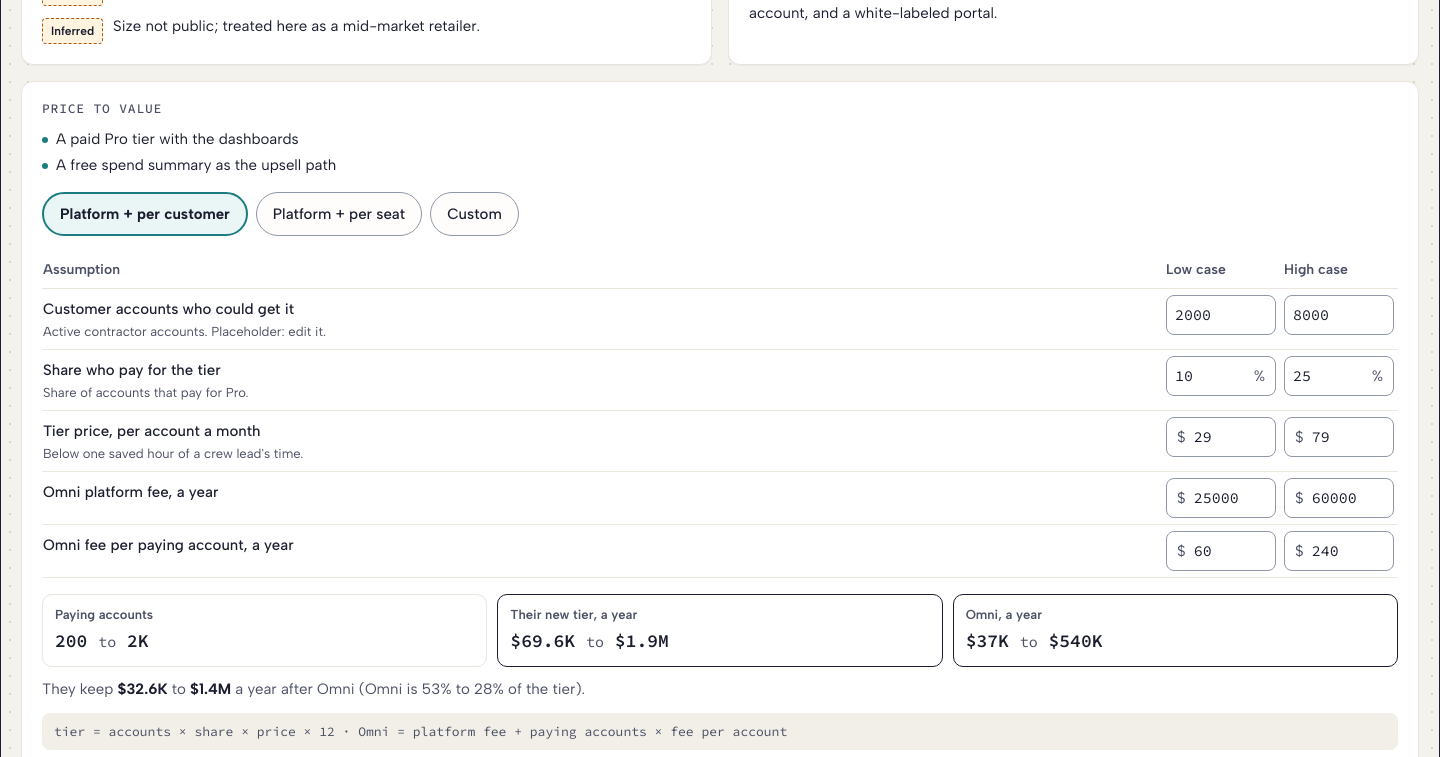
Scenario: the whiteboard › recalculates the price model as you type
This screenshot has width=1440, height=757.
(page scrolled)
Check: the element showing "Their new tier, a year $69.6K to $1.9M" is shown, box [497, 594, 943, 667]
Replace the text in the field named "Share who pay for the tier, low case" with "20" at x=1210, y=376, box [1167, 357, 1254, 395]
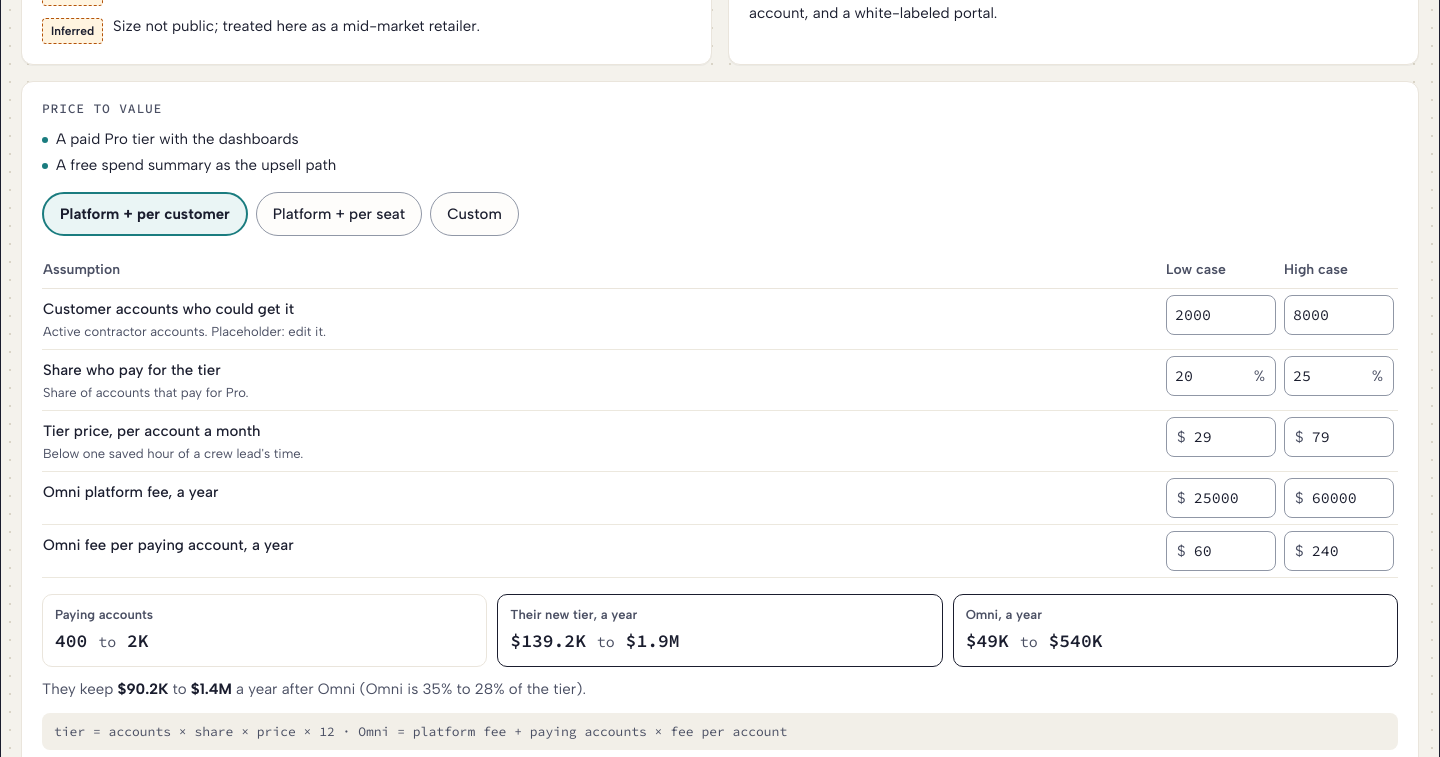
Check: the element showing "Their new tier, a year $139.2K to $1.9M" is shown, box [497, 594, 943, 667]
# Per seat: the seat rows appear and the seller's fee follows them.
Click the radio button labelled "Platform + per seat".
click(339, 214)  # box [256, 192, 422, 236]
(page scrolled)
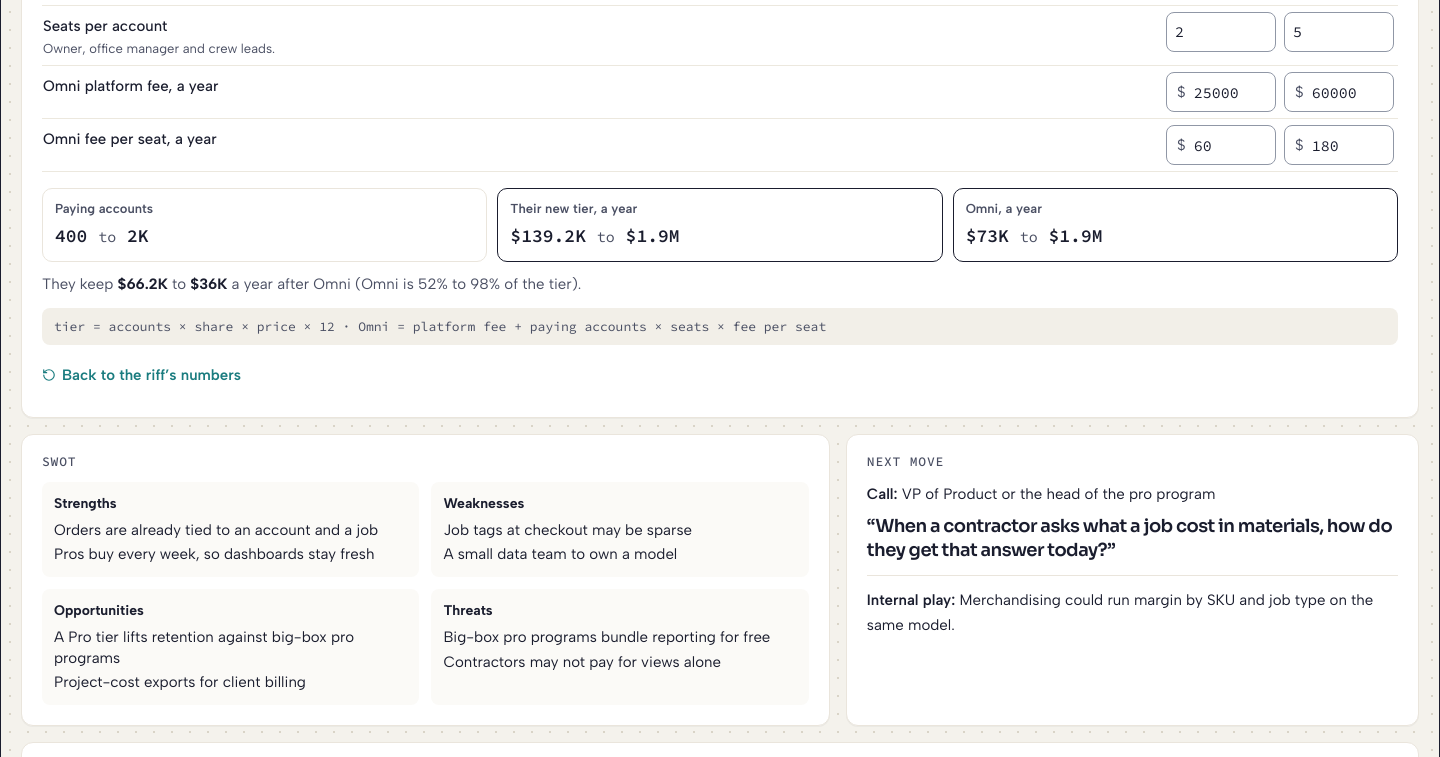
Check: the field named "Seats per account, low case" is shown, box [1167, 12, 1275, 50]
Click the button "Back to the riff’s numbers".
click(142, 375)  # box [42, 353, 241, 397]
(page scrolled)
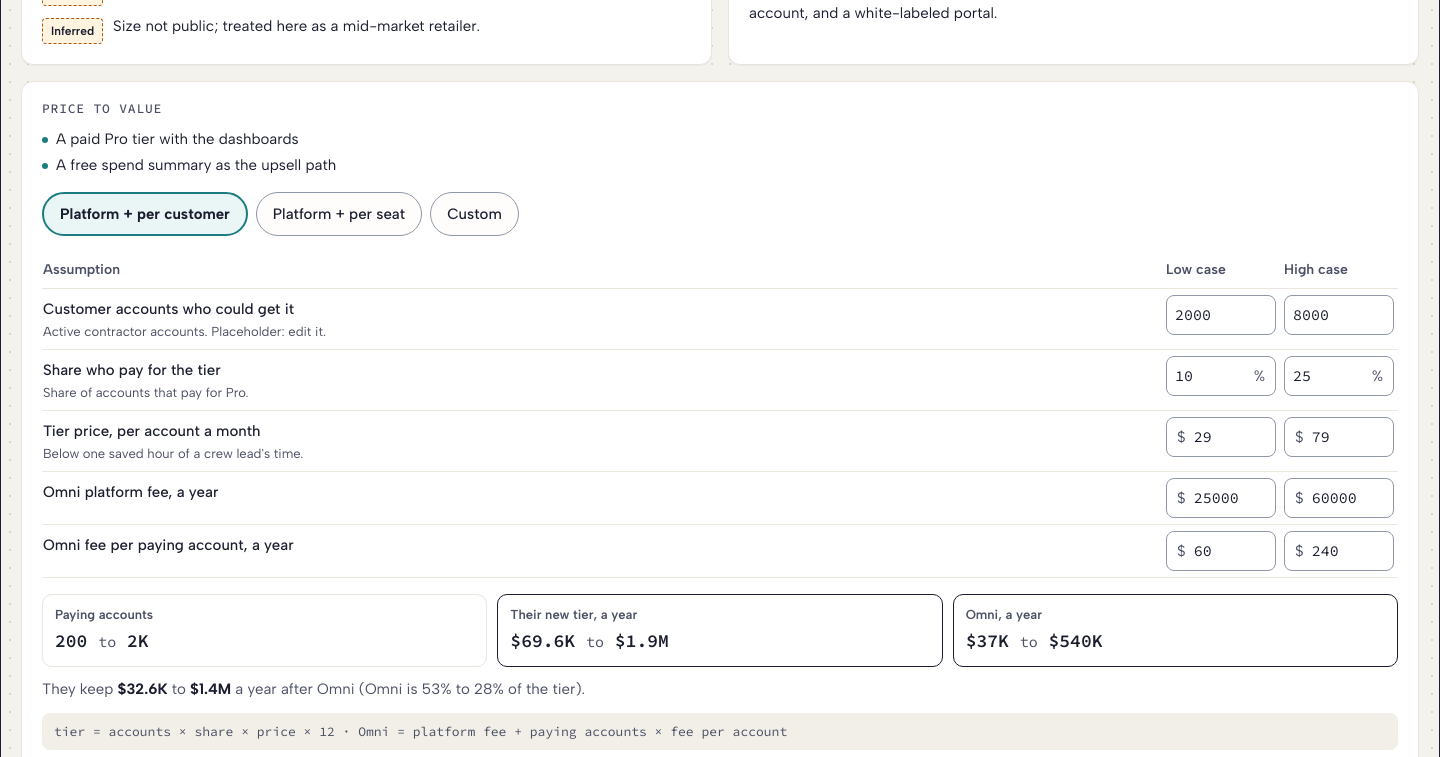
Check: the element showing "Their new tier, a year $69.6K to $1.9M" is shown, box [497, 594, 943, 667]
# A low case that loses money says so in words, not as a share over 100%.
Replace the text in the field named "Share who pay for the tier, low case" with "1" at x=1210, y=376, box [1167, 357, 1254, 395]
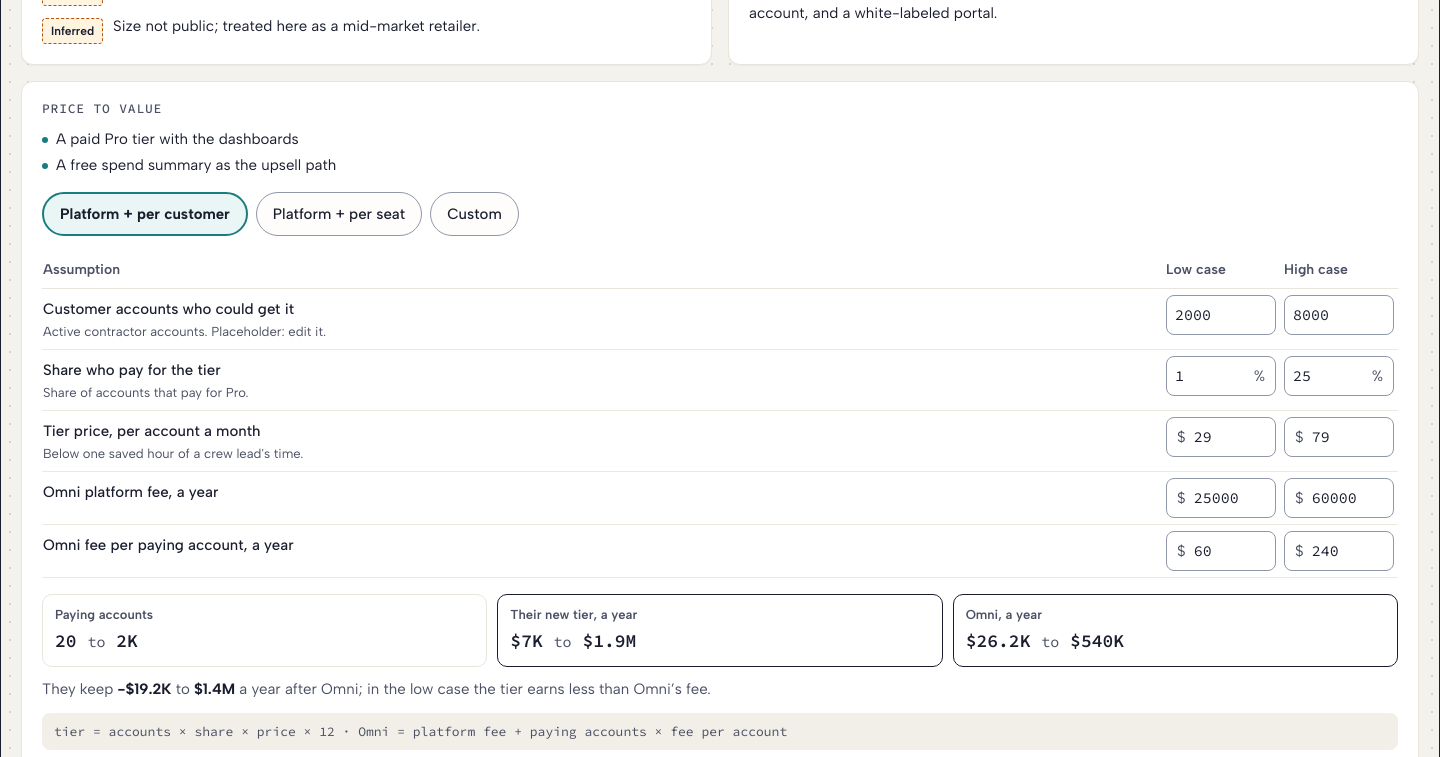
Check: the text "in the low case the tier earns less than Omni’s fee" is shown, box [42, 680, 711, 698]
Check: the text "% of the tier" is gone
